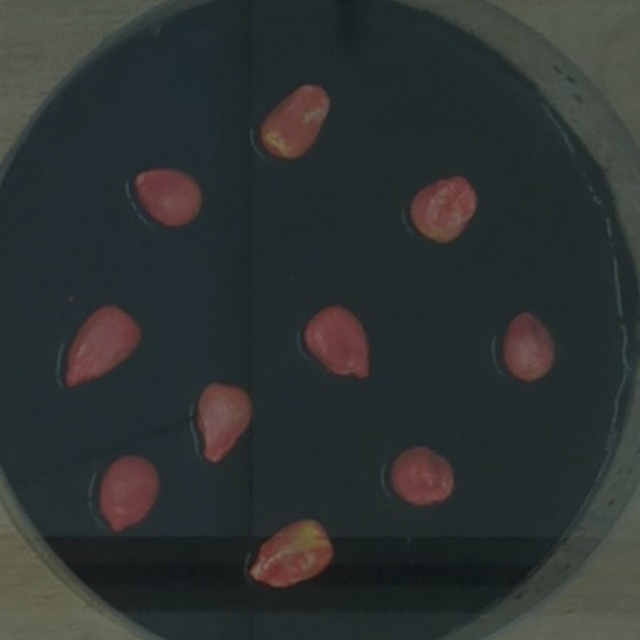Zea mays: (55, 294, 150, 396), (241, 509, 342, 595), (250, 72, 339, 167), (296, 296, 380, 387), (187, 372, 264, 470), (399, 164, 486, 250), (93, 446, 168, 540), (123, 160, 210, 235), (382, 436, 463, 513), (495, 302, 562, 389)
